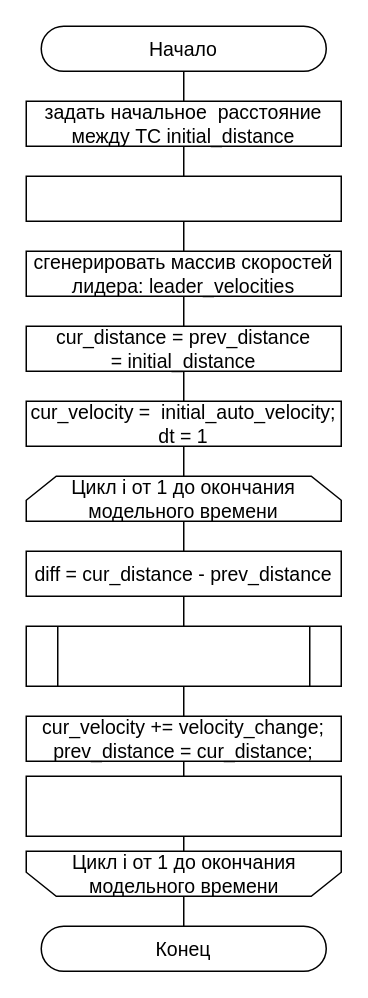
The diagram is 368 pixels wide and 998 high, and some of its shapes have lost their labels. The centre of each missing label's shape, as x and y in pixels:
"cur_distance += (leader_velocities[i] - cur_velocity) * dt" goes at (183,805).
"velocity_change = FS.compute(cur_distance, diff)" goes at (183,655).
"задать начальную скорость автопилота: initial_auto_velocity" goes at (183,198).
